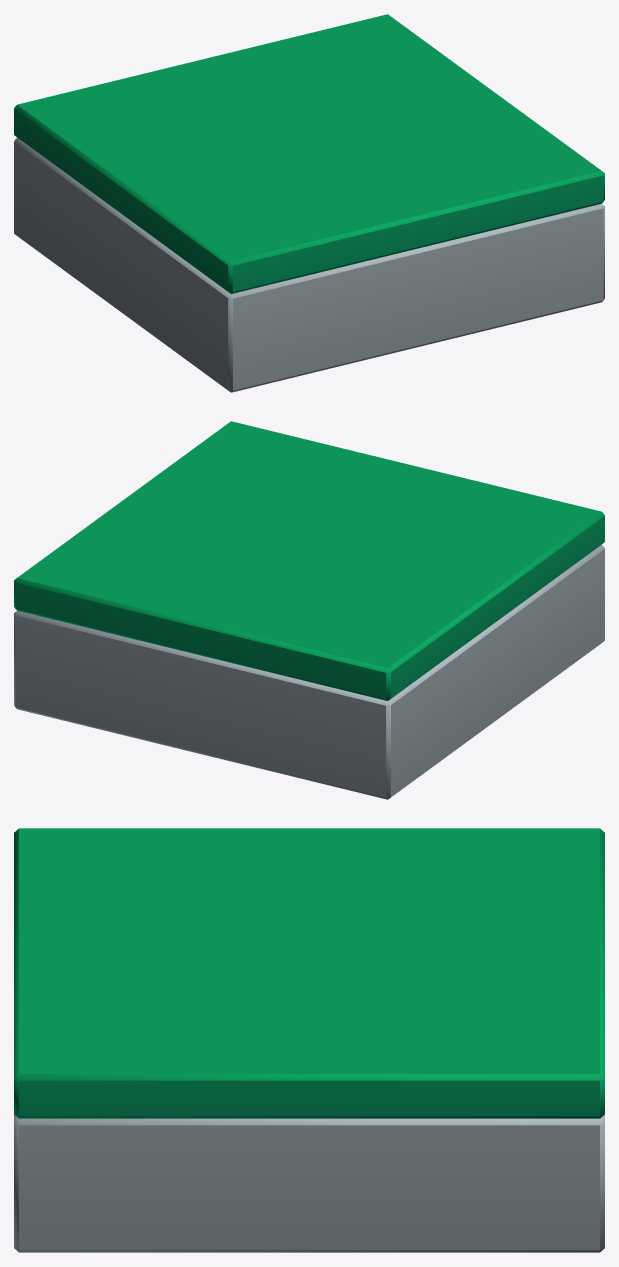
File: platform_6x6x2_green.glb
The picture shows the model from 3 angles, top to bottom: view 1: azimuth 30°, elevation 25°; view 2: azimuth 150°, elevation 25°; view 3: azimuth 270°, elevation 25°; orthographic projection. The views are drawn at different scales.
Visible parts, largest first — view 1: platform_6x6x2_green; view 2: platform_6x6x2_green; view 3: platform_6x6x2_green.
Part boxes in pixels (bbox=[...]): platform_6x6x2_green: bbox=[14, 14, 604, 392]; platform_6x6x2_green: bbox=[14, 421, 604, 799]; platform_6x6x2_green: bbox=[14, 828, 604, 1252].
Size of the model in its own units: 6 by 2 by 6.
Materials: 1 (1 with a texture image).
